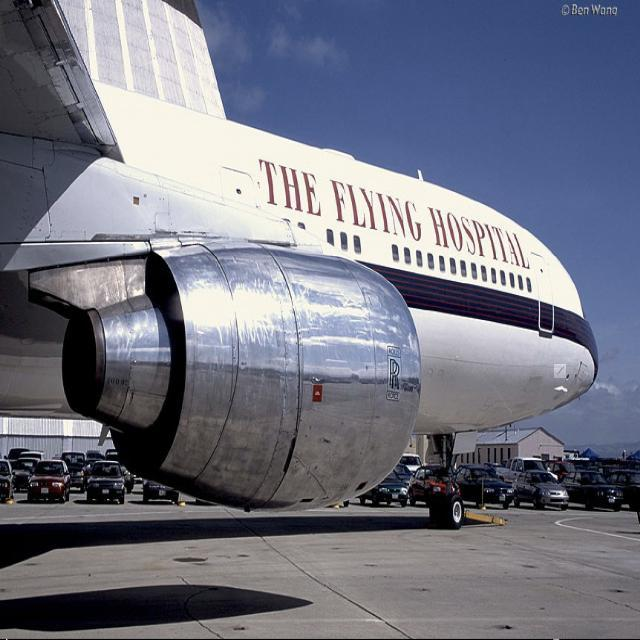crack: (555, 366, 567, 379)
